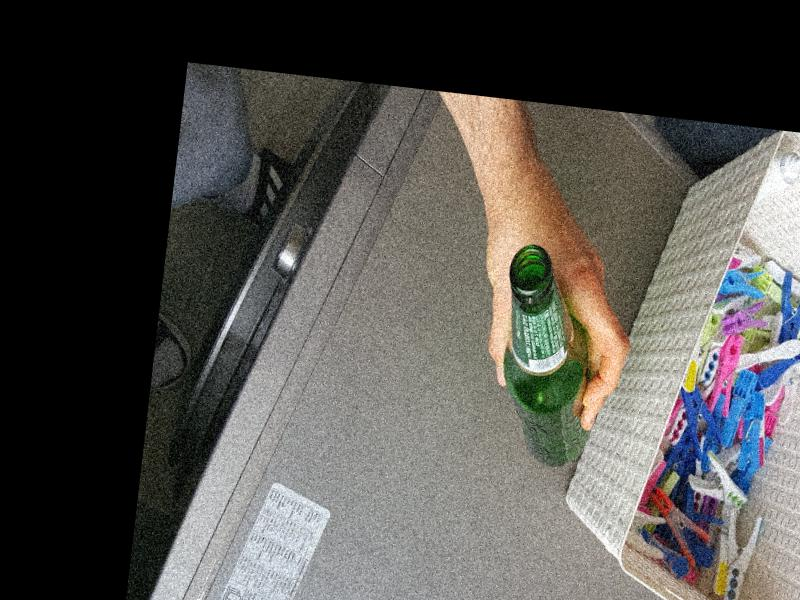Beer: (487, 242, 613, 469)
